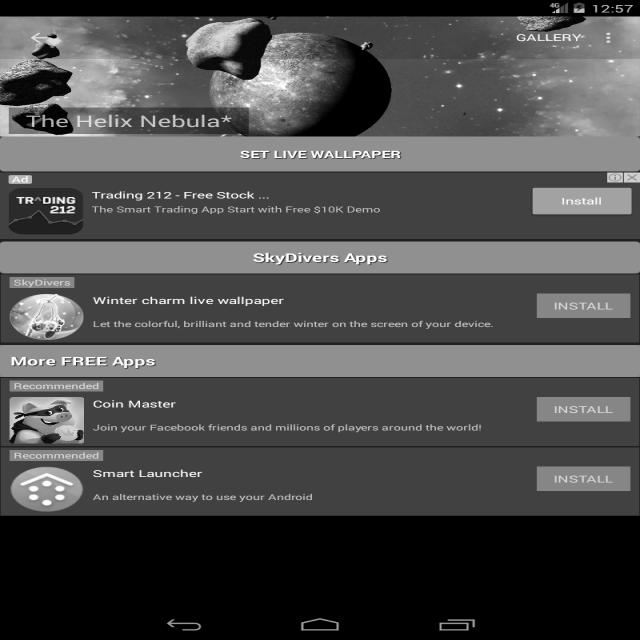Button: (526, 185, 634, 218), (530, 289, 634, 323), (532, 393, 634, 425), (532, 464, 634, 494)
ImageButton: (600, 32, 616, 46)
ImageView: (169, 28, 406, 104), (8, 280, 86, 340), (6, 388, 92, 440), (11, 178, 86, 232), (15, 468, 85, 508)
TextView: (99, 293, 495, 336), (99, 396, 480, 434), (90, 188, 417, 222), (97, 466, 323, 498), (250, 245, 408, 269), (228, 146, 414, 164), (507, 30, 579, 44)
